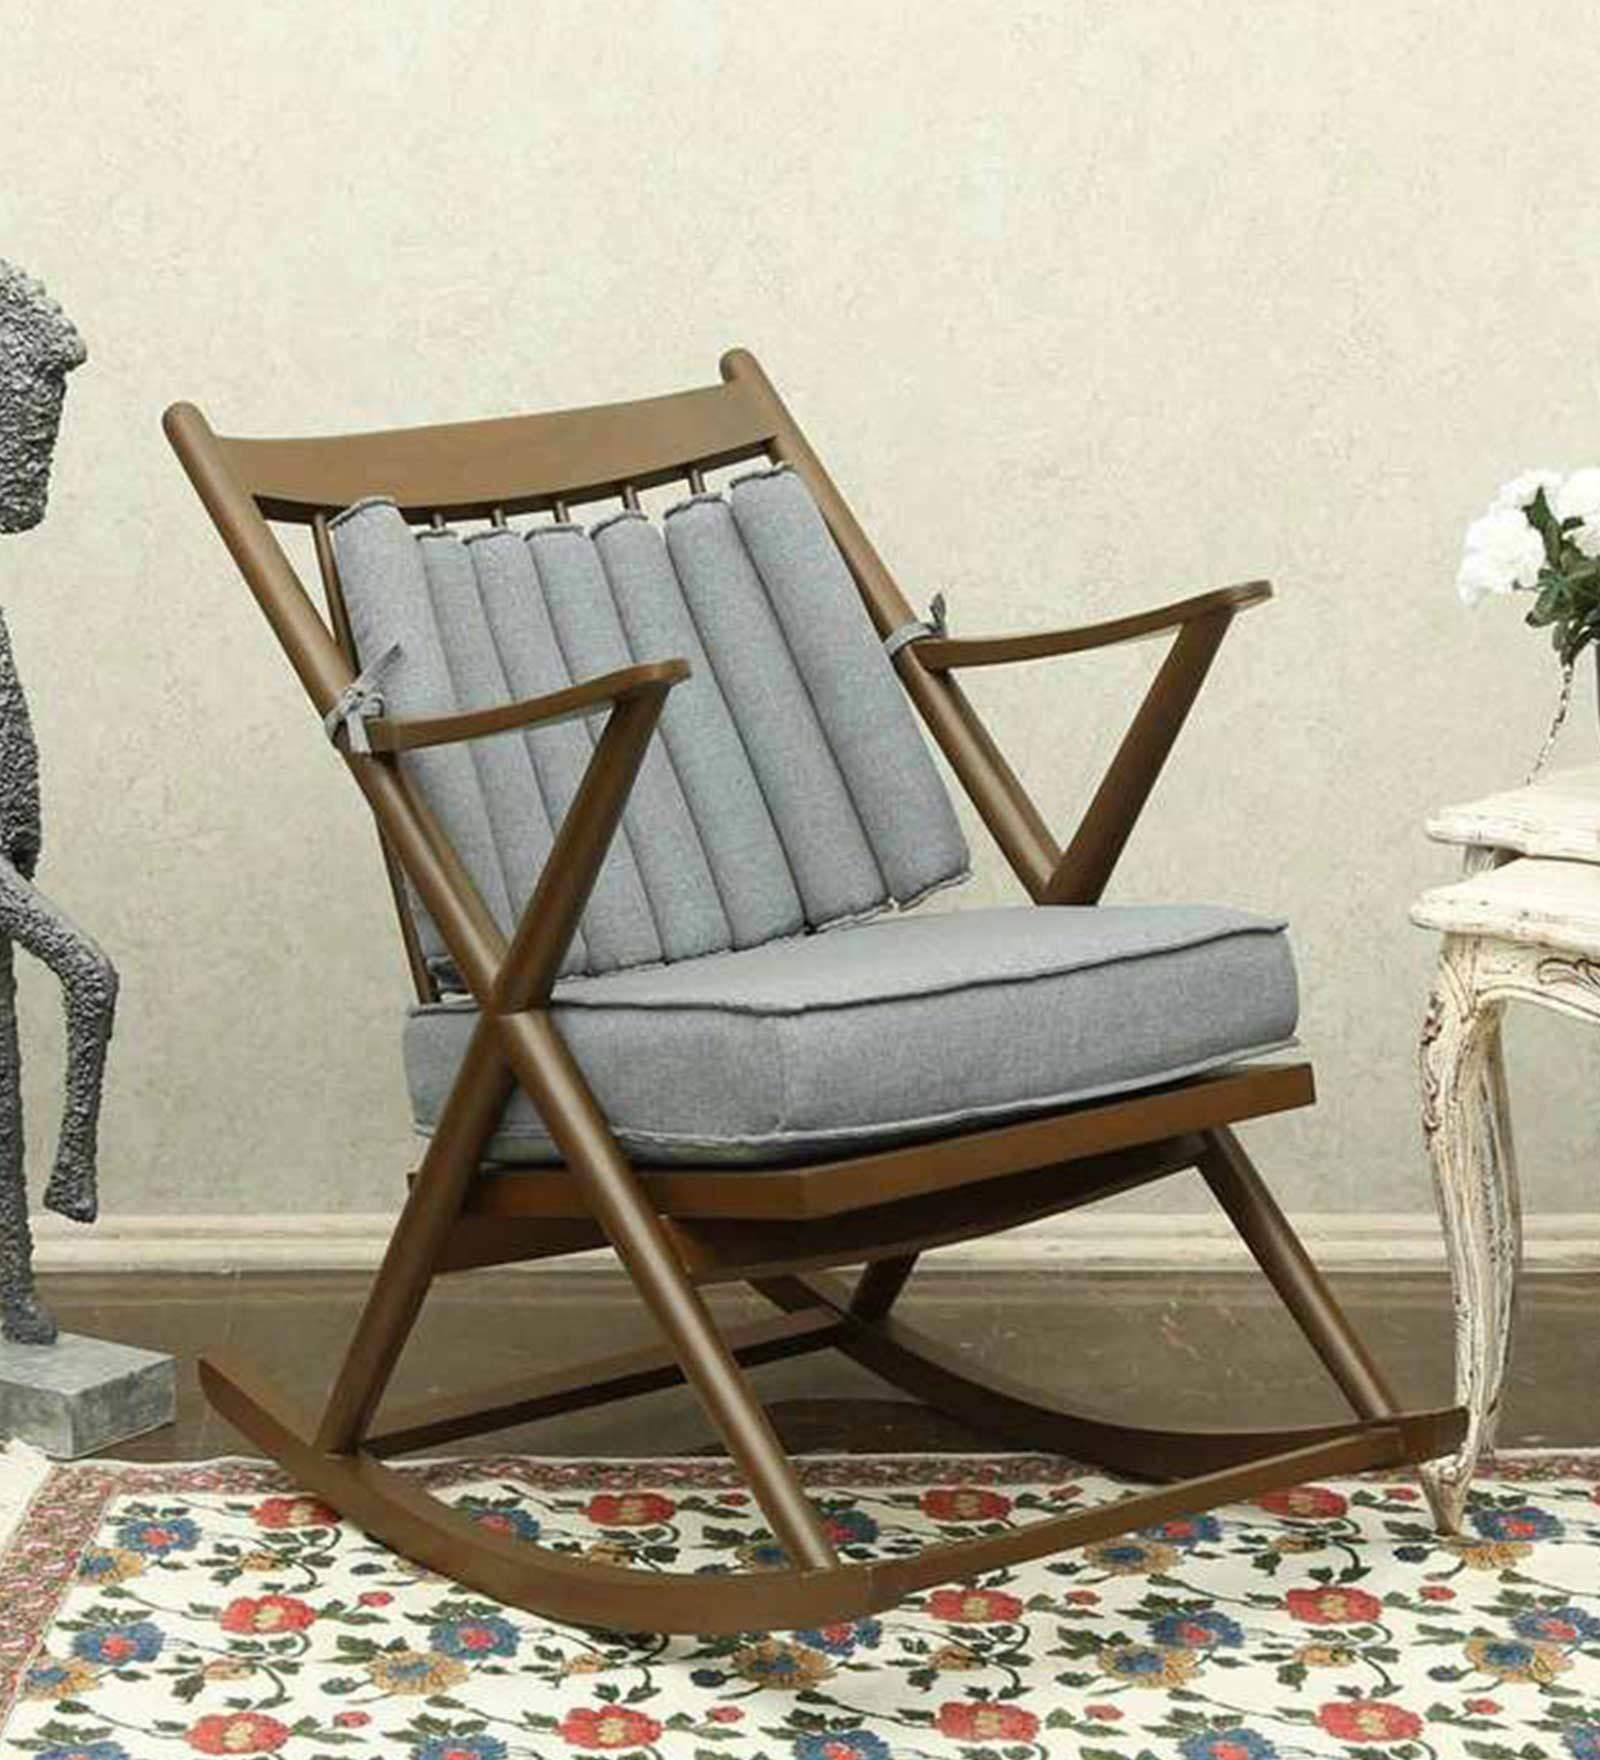Standard Rocking Chair in Grey & Brown Colour Combo by INDOORS: (121, 337, 1477, 1643)
